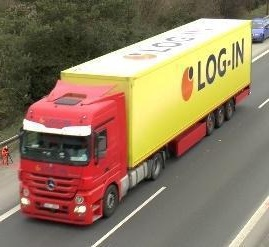truck: (16, 19, 251, 227)
